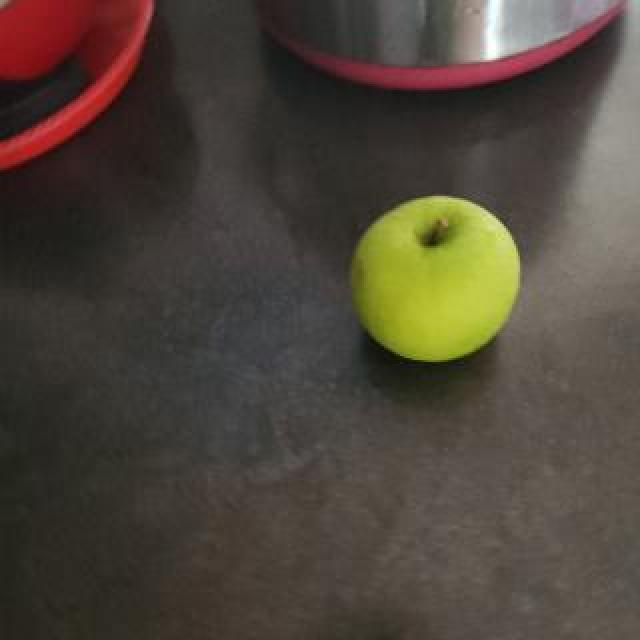Fresh Apple: (340, 197, 528, 375)
